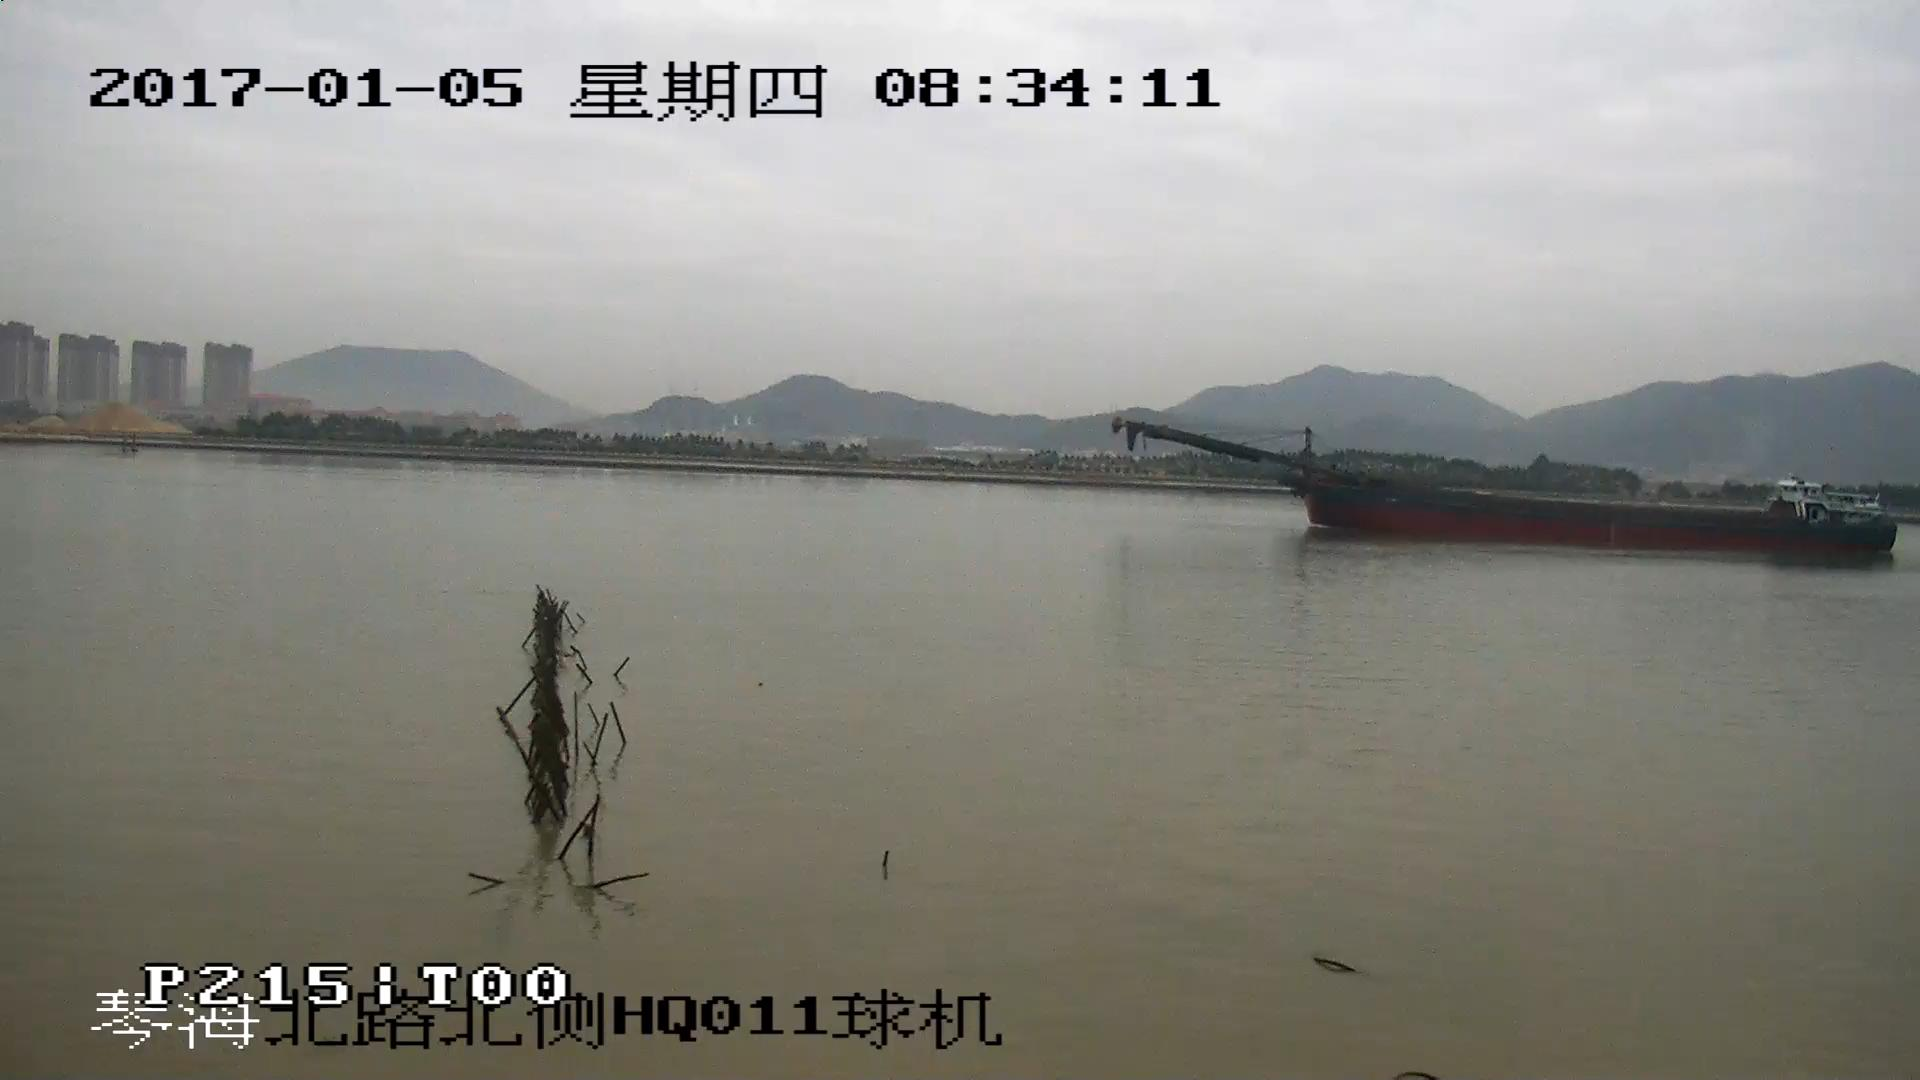bulk cargo carrier: (1119, 417, 1897, 560)
